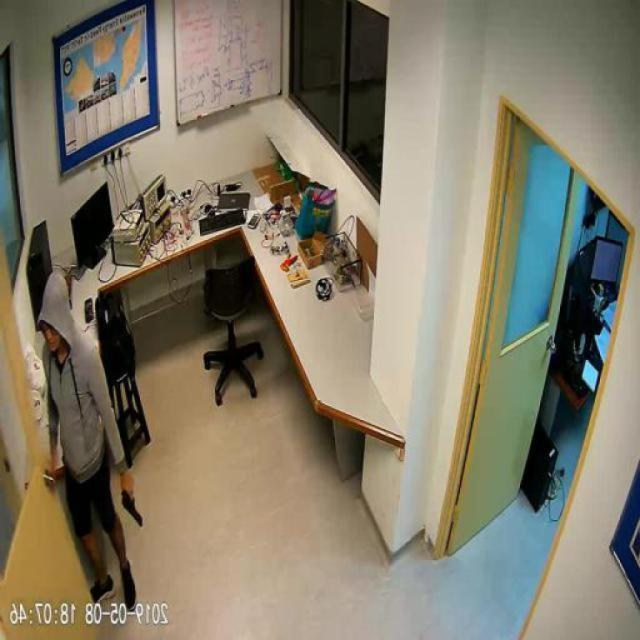pistol: (124, 476, 145, 525)
